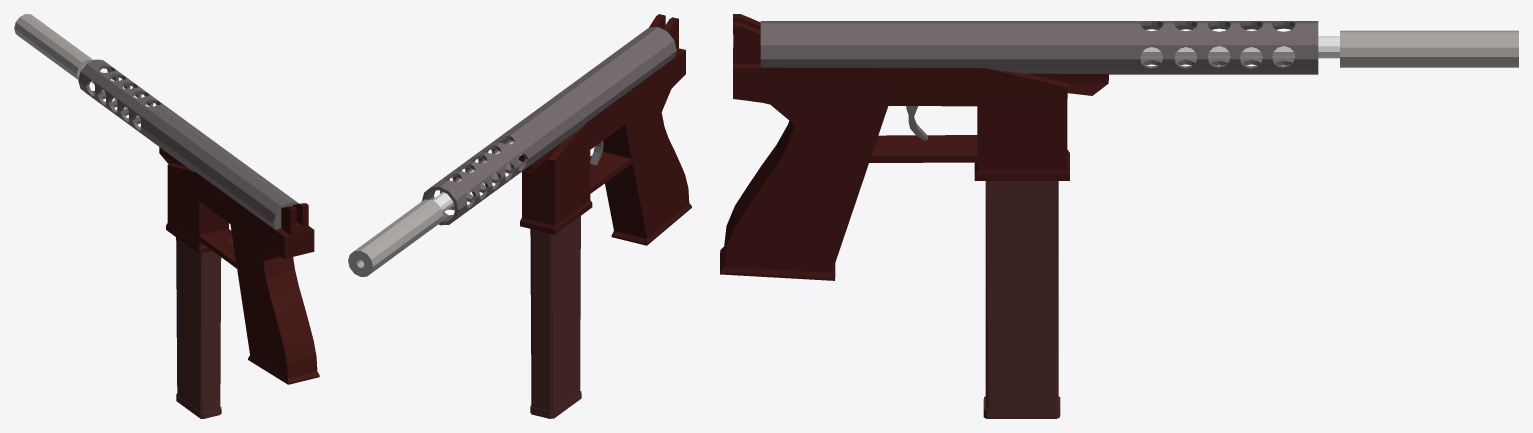
Rendered from gun.fbx.
3 renders of one model, left to right at view 1: azimuth 30°, elevation 25°; view 2: azimuth 150°, elevation 25°; view 3: azimuth 270°, elevation 25°, orthographic. The views are drawn at different scales.
Visible parts, largest first — view 1: Cube, Cylinder, Cube.001, Cylinder.002; view 2: Cube, Cylinder, Cube.001, Cylinder.002, Cylinder.001; view 3: Cube, Cylinder, Cube.001, Cylinder.002, Cylinder.001.
Boxes of the visible parts, bbox=[...] form: Cube: bbox=[159, 147, 319, 384]; Cylinder: bbox=[78, 59, 298, 229]; Cube.001: bbox=[176, 237, 221, 418]; Cylinder.002: bbox=[14, 14, 93, 79]; Cube: bbox=[519, 14, 691, 245]; Cylinder: bbox=[421, 27, 676, 225]; Cube.001: bbox=[530, 216, 581, 418]; Cylinder.002: bbox=[348, 199, 442, 276]; Cylinder.001: bbox=[432, 141, 522, 212]; Cube: bbox=[720, 14, 1108, 280]; Cylinder: bbox=[760, 21, 1318, 74]; Cube.001: bbox=[983, 181, 1060, 418]; Cylinder.002: bbox=[1340, 30, 1518, 67]; Cylinder.001: bbox=[1140, 36, 1339, 58].
Size of the model in its own units: 57.72 by 461 by 853.
